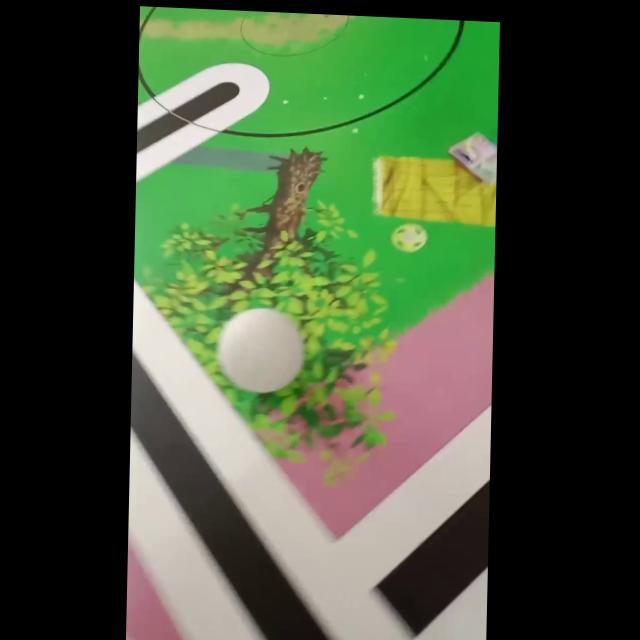white ball: (216, 304, 305, 395)
